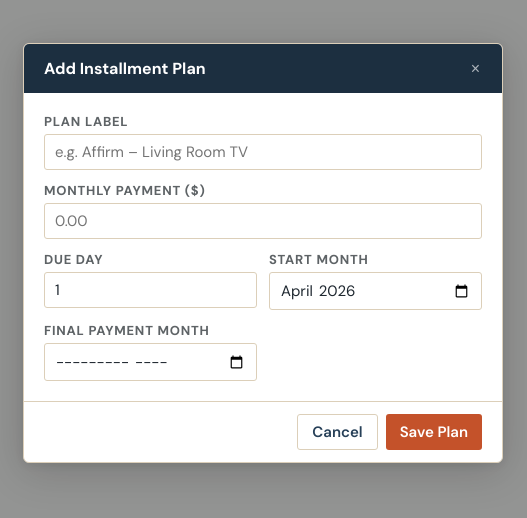
Test: AffirmForm — preview › shows payment preview when both start and end are set
In the field labelled "Monthly Payment ($)": (263, 221) [44,203,482,239], type "50"
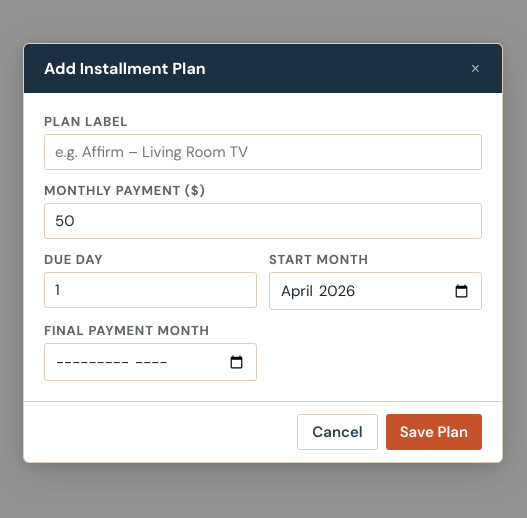
In the field labelled "Final Payment Month": (150, 362) [44,343,257,381], type "2026-06"
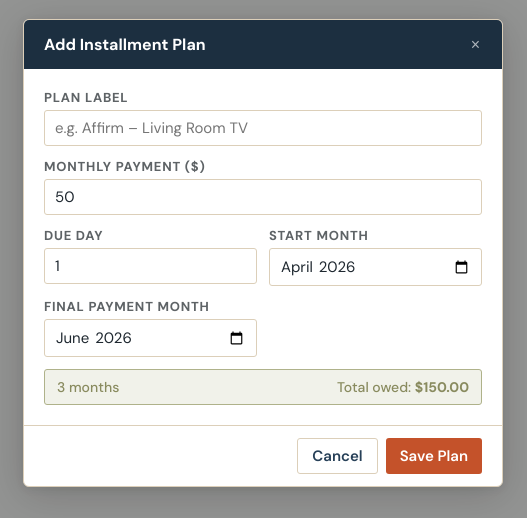
Expected: the text "3 months" is shown, [57,378,119,396]
Expected: the text "$150.00" is shown, [415,378,469,396]
